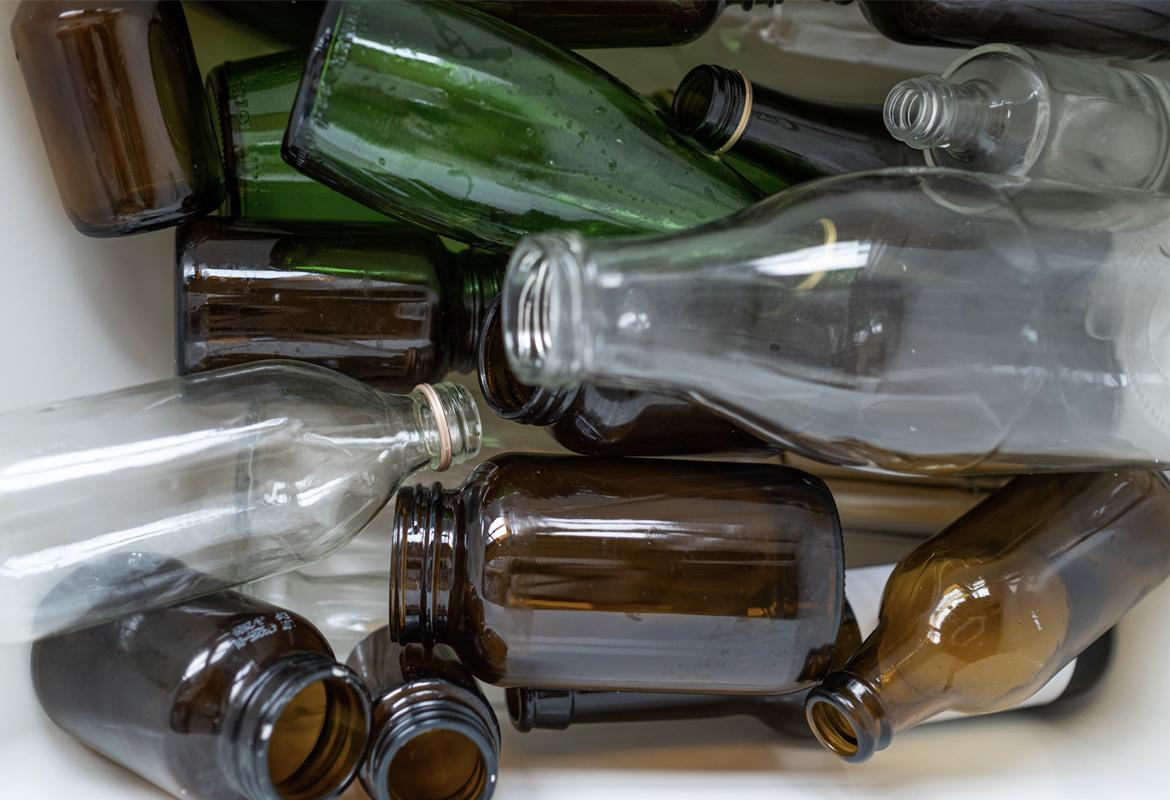glass: (504, 173, 1170, 463), (219, 0, 752, 231), (399, 449, 844, 719), (0, 364, 472, 618), (814, 461, 1170, 762), (46, 593, 501, 800), (181, 220, 504, 384), (11, 1, 221, 239), (887, 47, 1170, 193), (674, 54, 906, 175)
